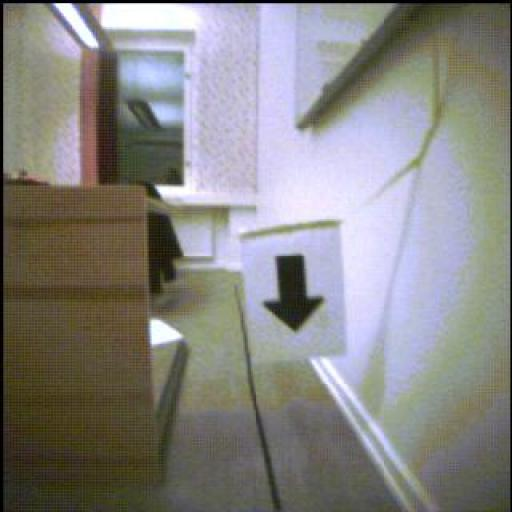Arrow: (265, 256, 324, 333)
